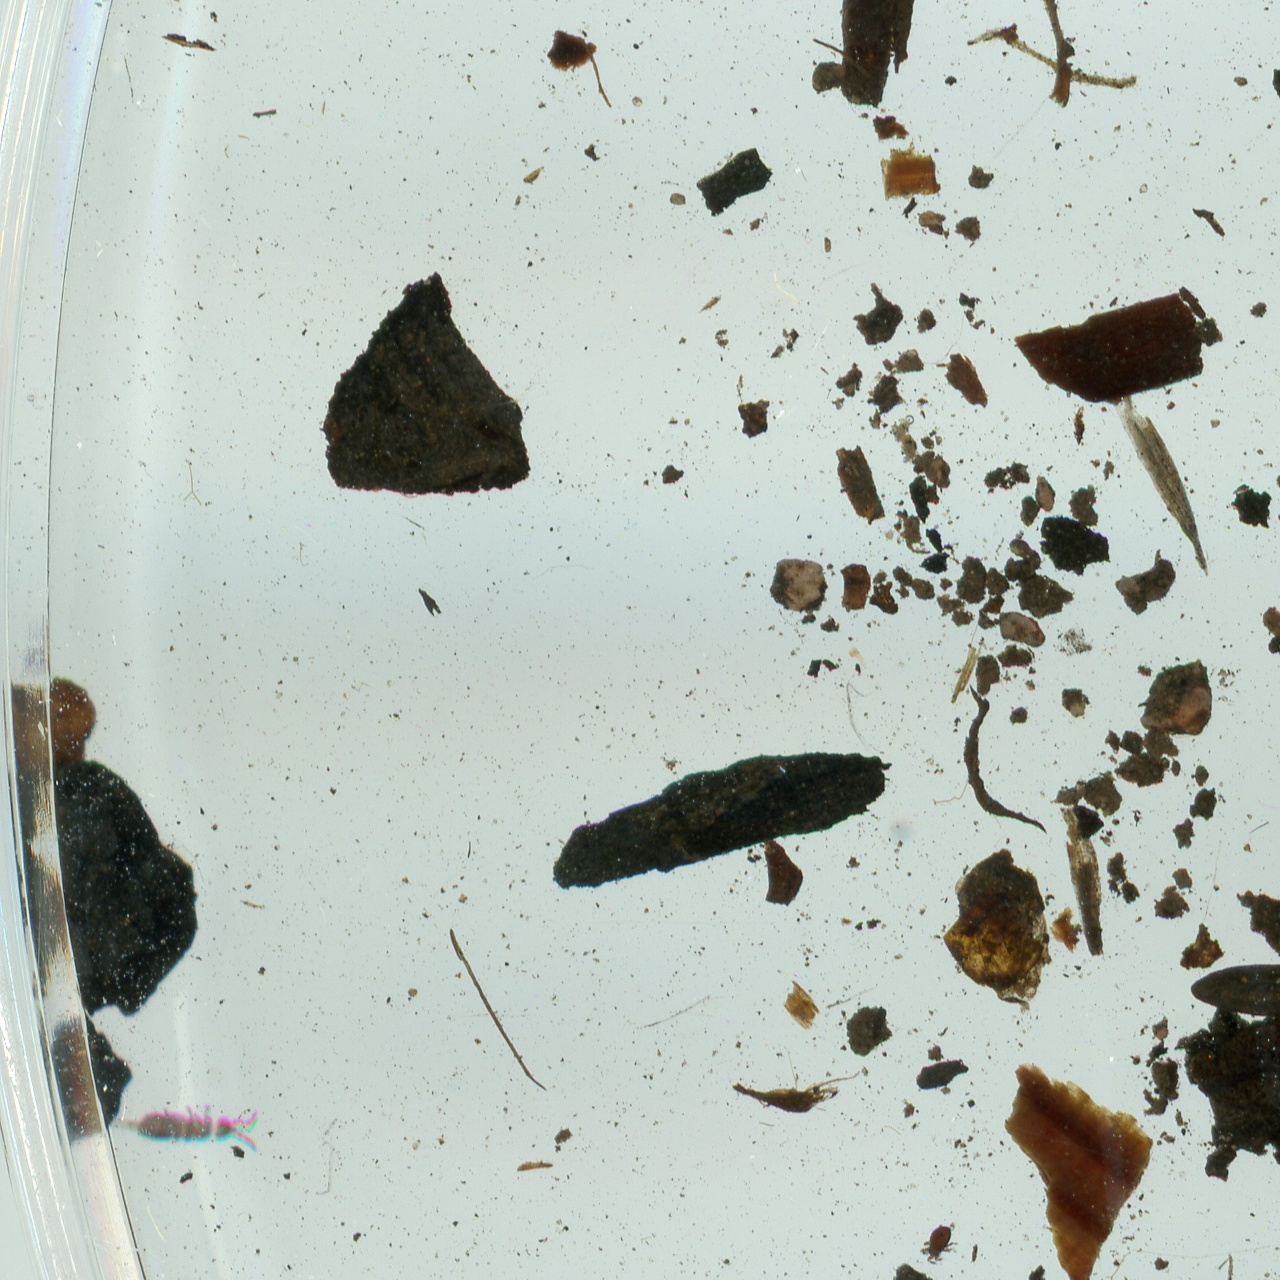arthropod: (100, 1101, 258, 1155), (919, 1224, 956, 1267)
